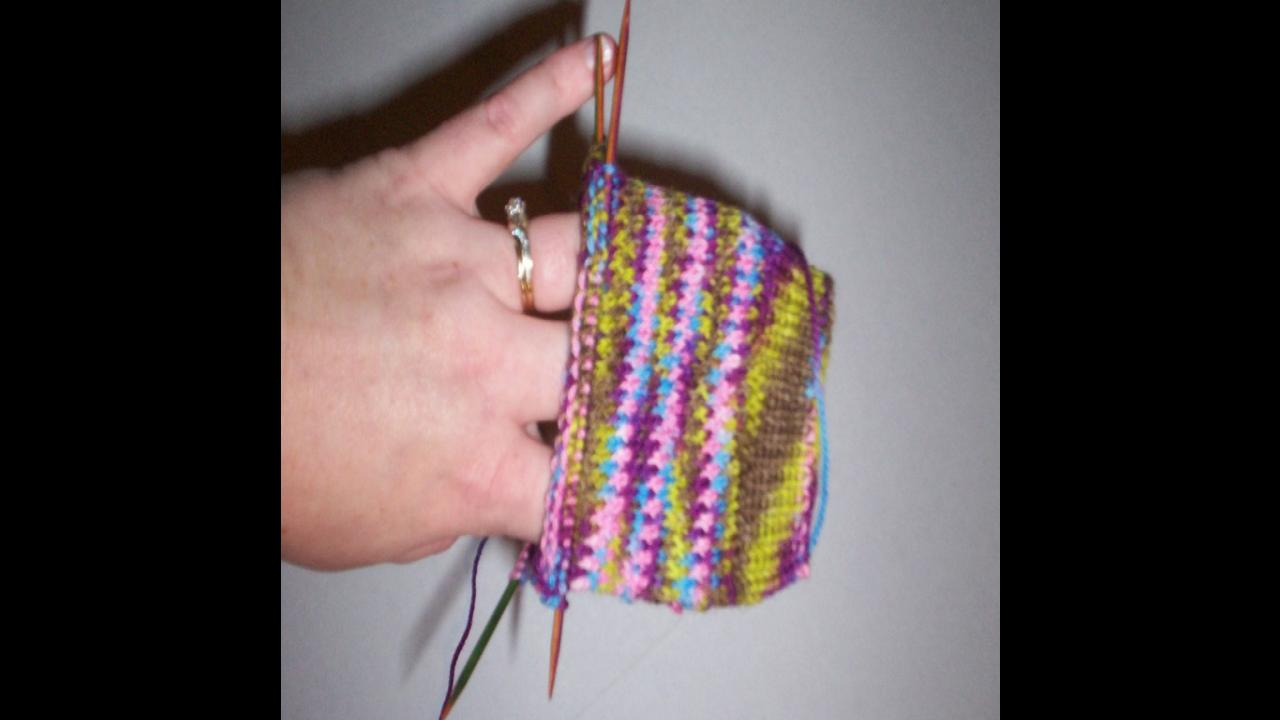ring: (502, 197, 542, 322)
